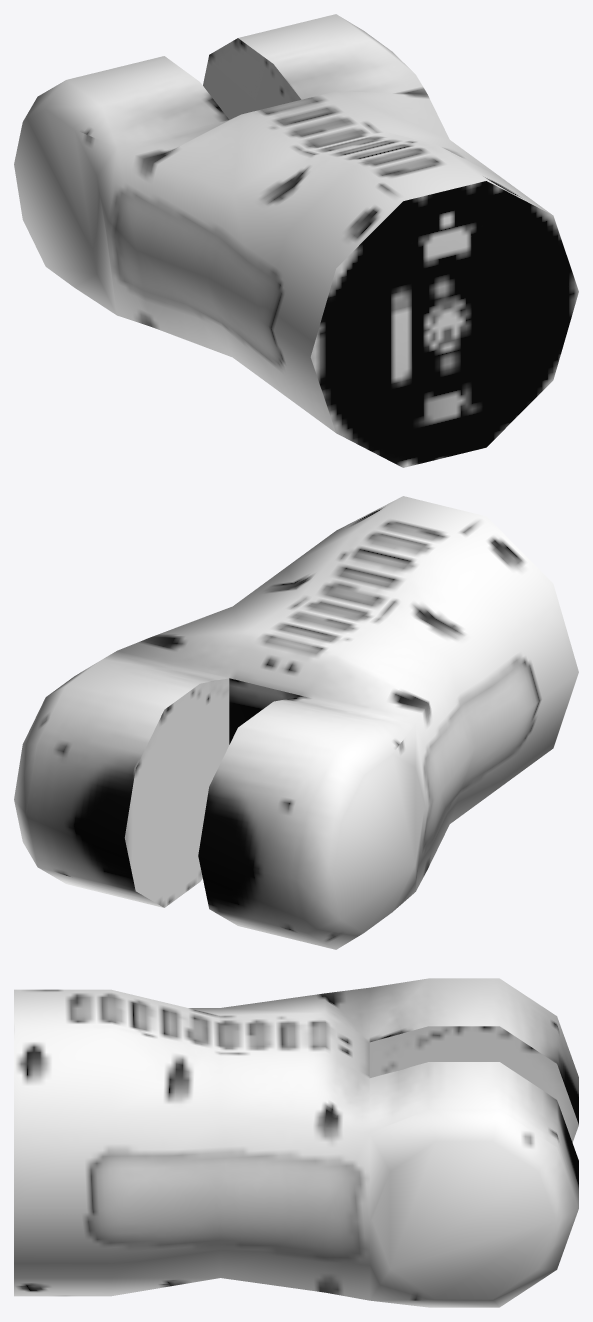
The model's file is l_farm.dae.
3 views of the same model, one above another, from view 1: azimuth 30°, elevation 25°; view 2: azimuth 150°, elevation 25°; view 3: azimuth 270°, elevation 25° (orthographic).
Visible parts, largest first — view 1: l_farm; view 2: l_farm; view 3: l_farm.
Boxes of the visible parts, box(x1,y1,x2,y2) form: l_farm: box(14, 14, 578, 467); l_farm: box(14, 496, 578, 949); l_farm: box(14, 978, 578, 1307).
Bounding box in the file's own units: 0.1246 × 0.1915 × 0.0994.
Materials: 1 (1 with a texture image).
